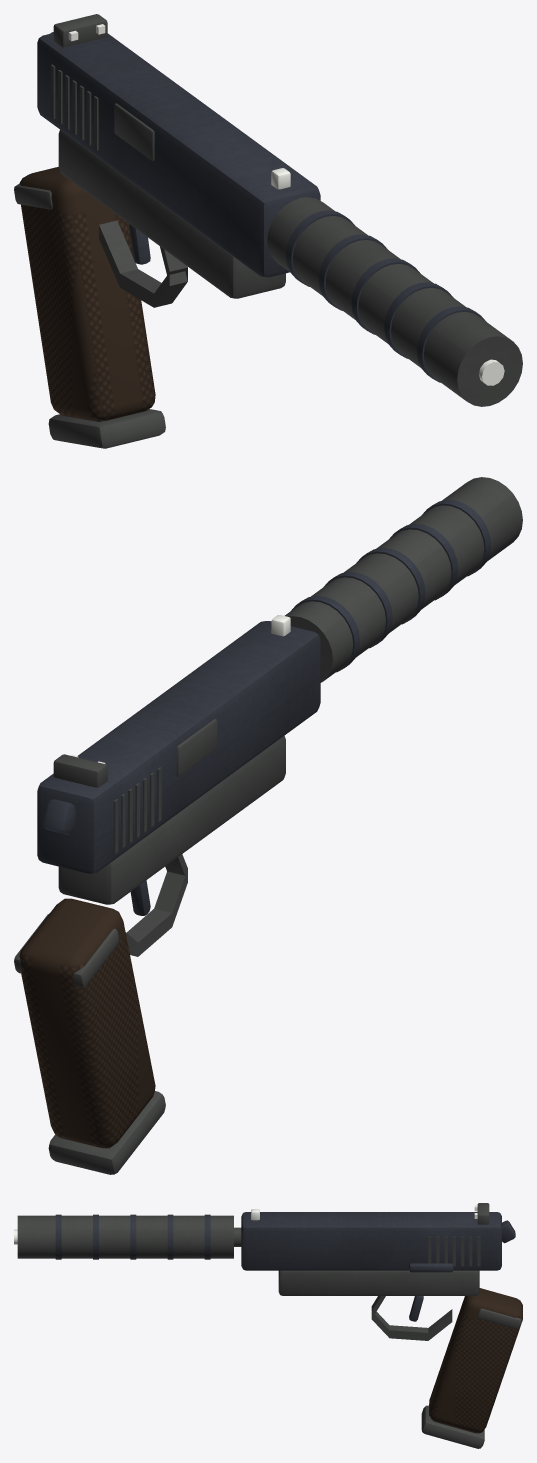
3 views of the same model, one above another, from view 1: azimuth 30°, elevation 25°; view 2: azimuth 150°, elevation 25°; view 3: azimuth 270°, elevation 25° (orthographic). The views are drawn at different scales.
Parts seen in each view (by area): view 1: w_pp7s; view 2: w_pp7s; view 3: w_pp7s.
Part boxes in pixels (x1,y1,x2,y2): w_pp7s: [14, 14, 522, 448]; w_pp7s: [14, 477, 522, 1174]; w_pp7s: [14, 1203, 522, 1448].
Bounding box in the file's own units: 0.0325 × 0.1719 × 0.3415.
Materials: 4 (3 with a texture image).
